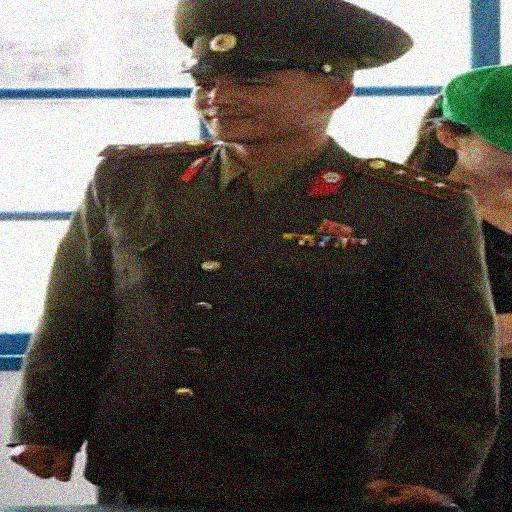north army: (39, 4, 500, 510)
